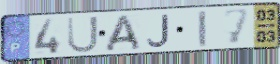4: (32, 17, 65, 56)
7: (222, 7, 251, 47)
A: (103, 13, 143, 53)
I: (197, 9, 209, 48)
J: (146, 13, 171, 48)
U: (66, 14, 100, 54)
